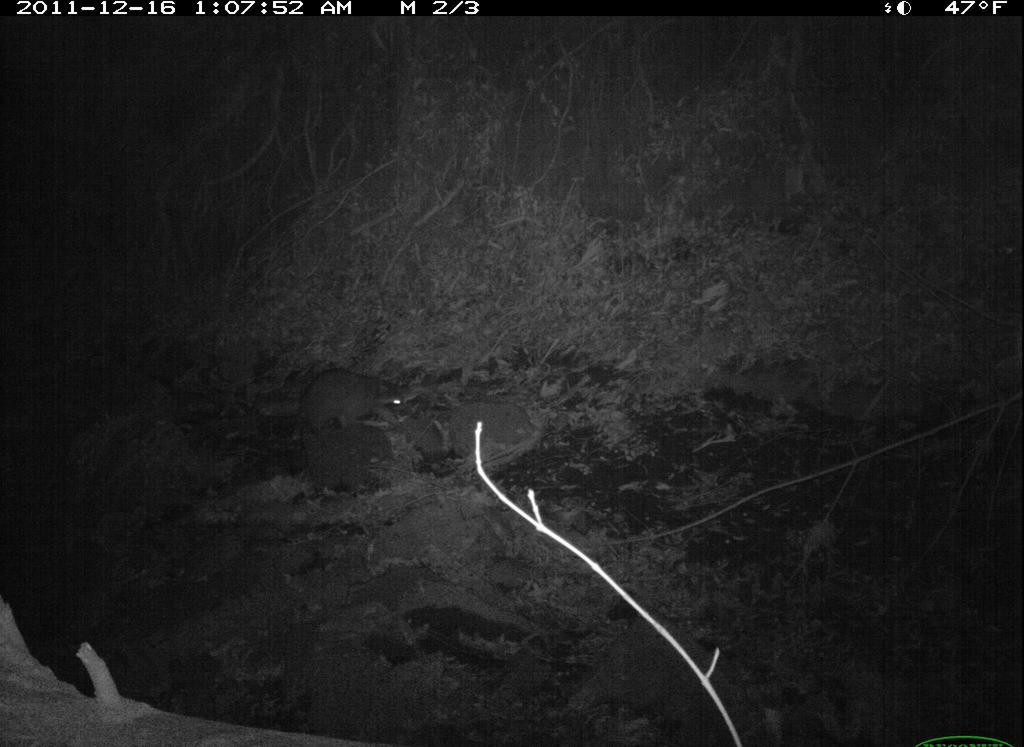raccoon: (273, 359, 415, 461)
